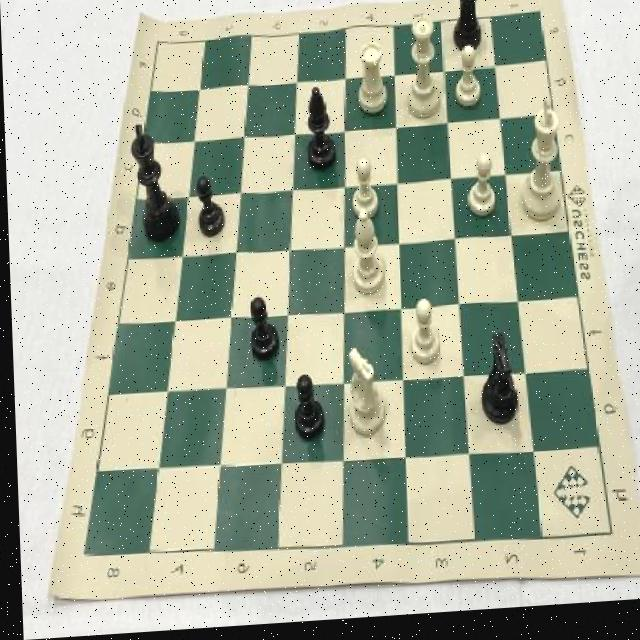bishop: (301, 86, 336, 180)
black-bishop: (125, 119, 181, 250)
black-king: (468, 335, 521, 441)
black-knight: (287, 368, 323, 449), (243, 294, 279, 371), (191, 171, 224, 246)
black-queen: (446, 0, 489, 66)
black-rook: (344, 211, 389, 305)
white-bishop: (513, 100, 566, 234)
white-king: (339, 343, 386, 449)
white-knight: (445, 47, 489, 123), (406, 299, 442, 381), (462, 156, 498, 229), (346, 156, 382, 225)
white-pawn: (400, 14, 443, 130)
white-queen: (351, 41, 392, 123)
